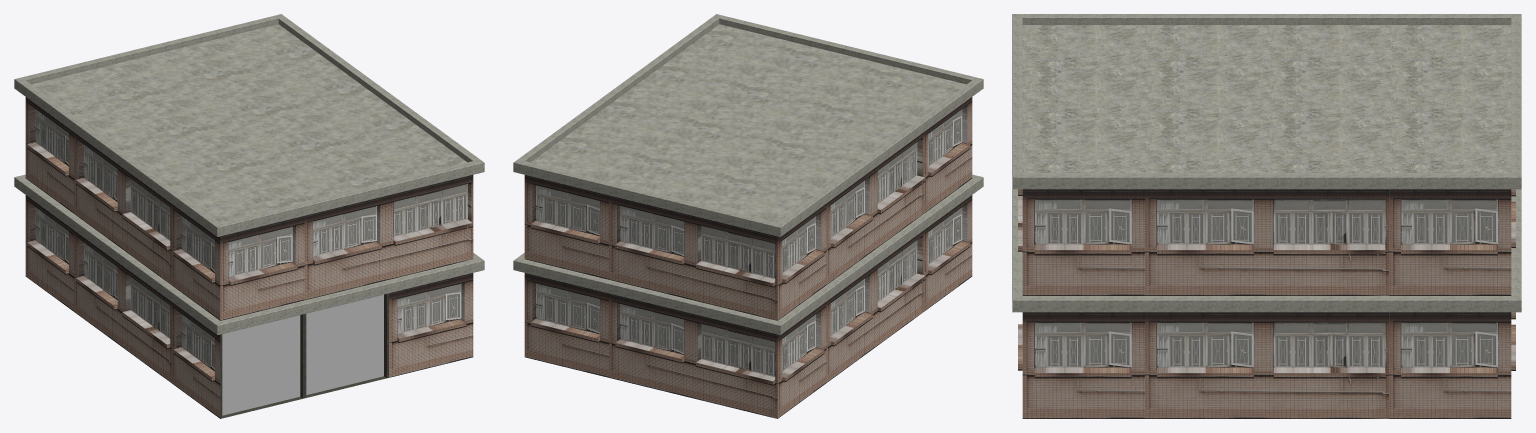
Rendered from CT_door_020.fbx.
3 views of the same model, side by side, from view 1: azimuth 30°, elevation 25°; view 2: azimuth 150°, elevation 25°; view 3: azimuth 270°, elevation 25° (orthographic). The views are drawn at different scales.
Parts seen in each view (by area): view 1: CT_door_020; view 2: CT_door_020; view 3: CT_door_020.
Boxes of the visible parts, box(x1,y1,x2,y2) form: CT_door_020: box(14, 14, 484, 418); CT_door_020: box(513, 14, 983, 418); CT_door_020: box(1012, 14, 1521, 418).
Size of the model in its own units: 811 by 569 by 1067.
